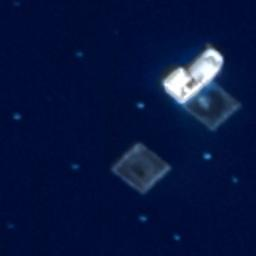square_cover: (105, 140, 171, 195), (185, 78, 241, 131)
